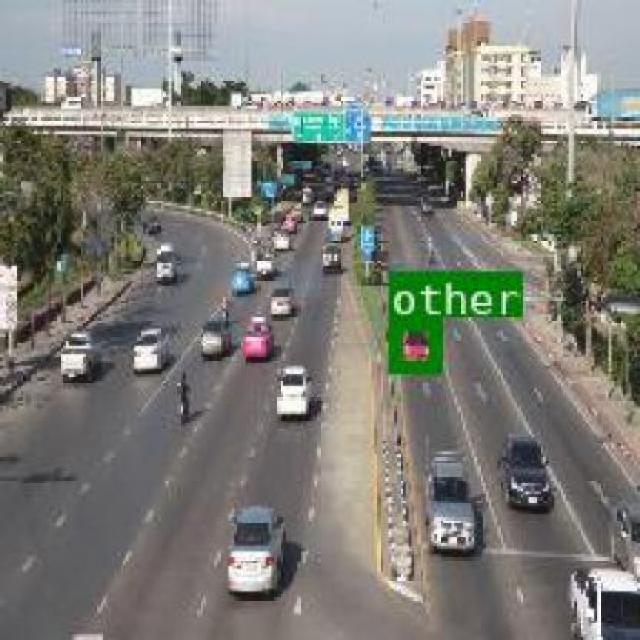other: (388, 316, 438, 370)
